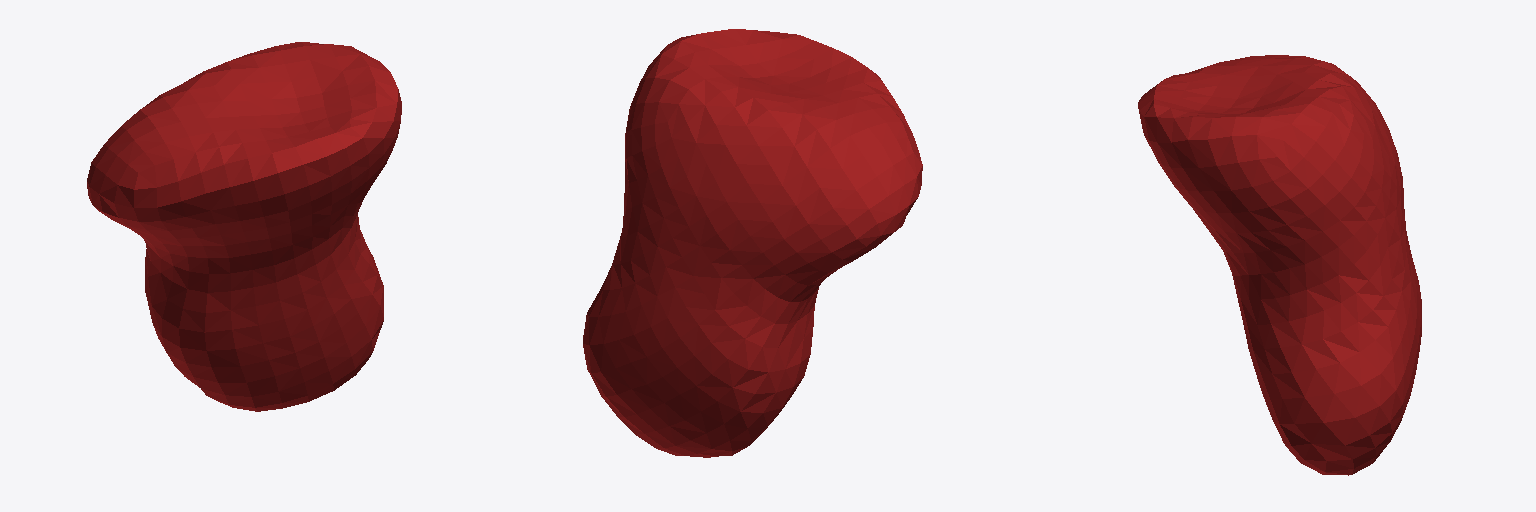
Rendered from DistalPhalanx_2.obj.
3 views of the same model, side by side, from view 1: azimuth 30°, elevation 25°; view 2: azimuth 150°, elevation 25°; view 3: azimuth 270°, elevation 25° (orthographic).
Parts seen in each view (by area): view 1: Object_0DistalPhalanx_2; view 2: Object_0DistalPhalanx_2; view 3: Object_0DistalPhalanx_2.
Part boxes in pixels (bbox=[...]): Object_0DistalPhalanx_2: bbox=[87, 42, 401, 411]; Object_0DistalPhalanx_2: bbox=[583, 29, 922, 457]; Object_0DistalPhalanx_2: bbox=[1138, 55, 1421, 475].
Bounding box in the file's own units: 11.13 × 13.19 × 9.19.